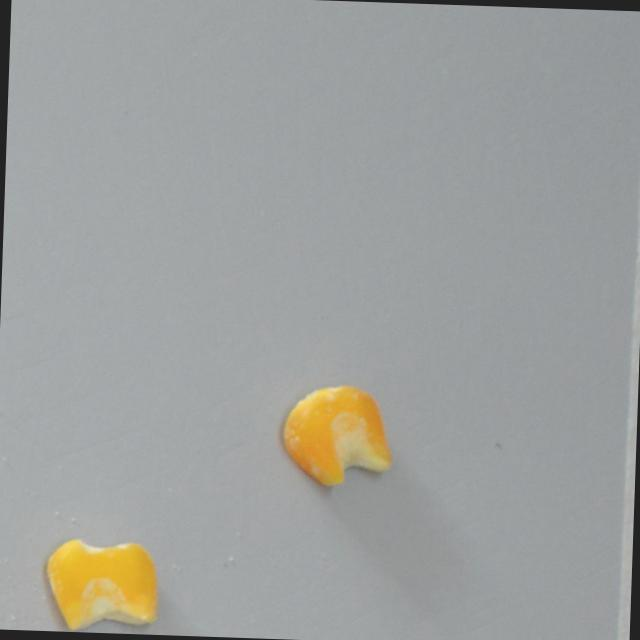no_canjicado: (44, 537, 163, 634)
pelicula: (281, 382, 396, 487)
